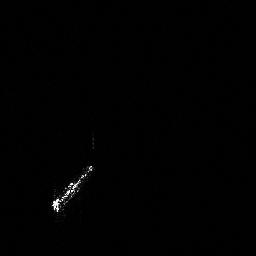ship: (48, 162, 97, 216)
